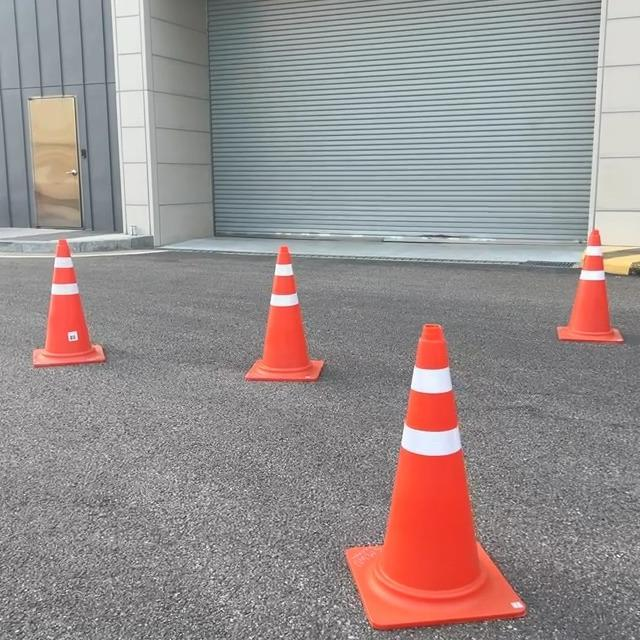fallen_object: (319, 310, 537, 635), (491, 207, 640, 399), (220, 215, 347, 425), (9, 213, 122, 387)
